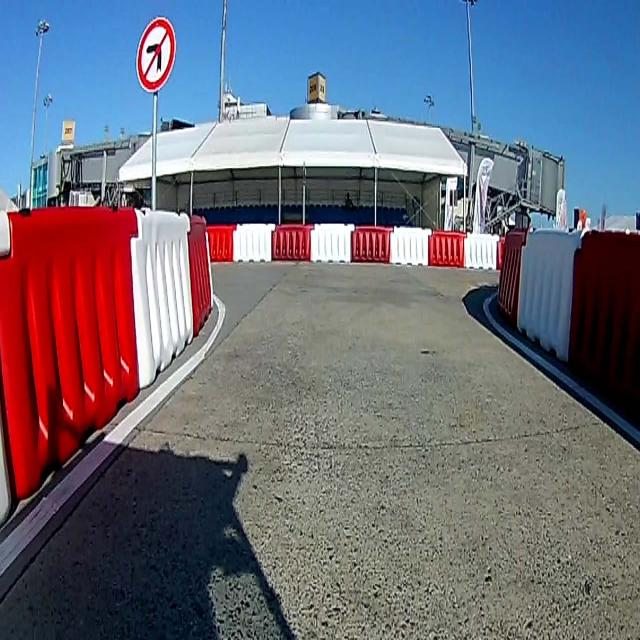soladonulmez: (135, 18, 175, 89)
